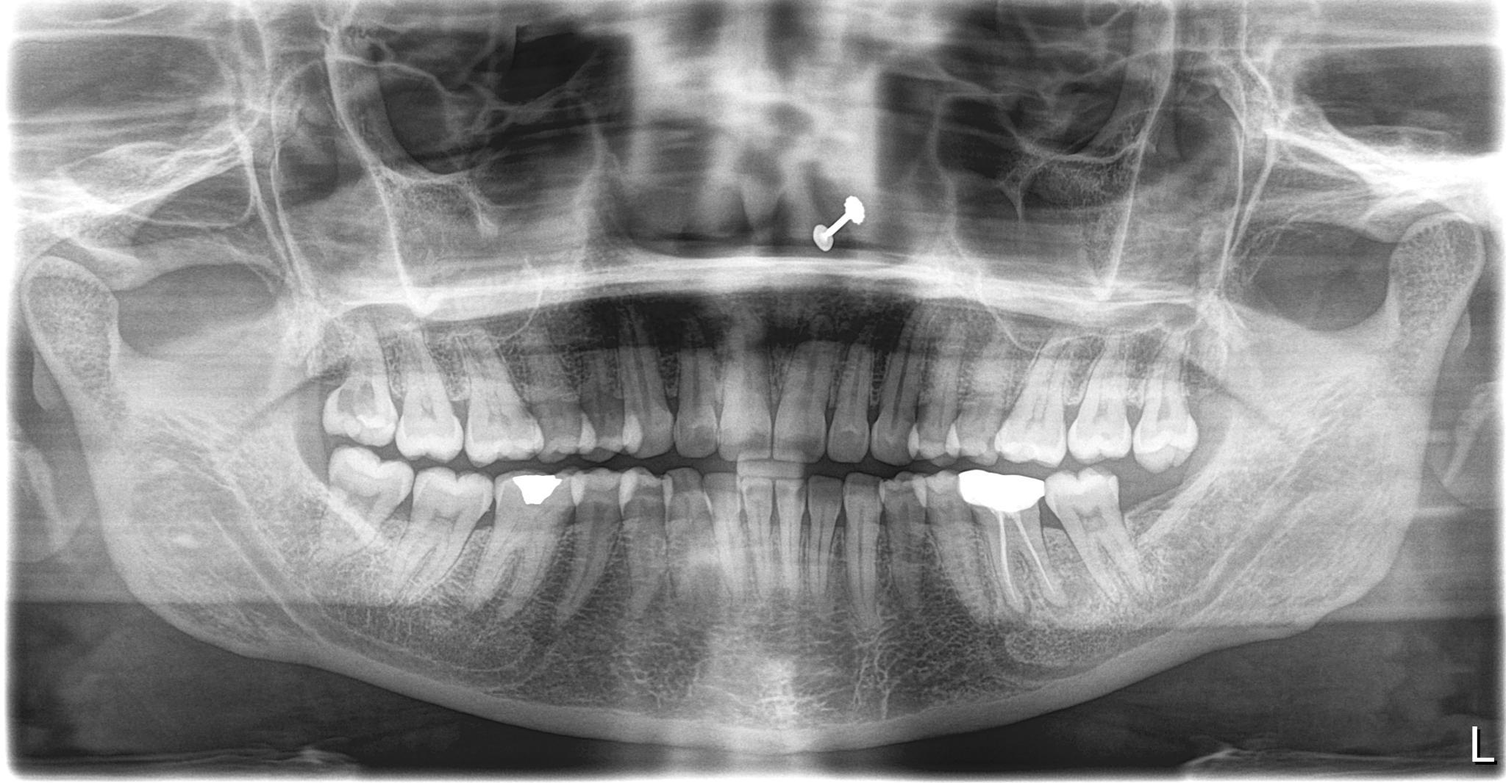Endodontically Treated Tooth: (967, 479, 1046, 638)
Periodontal Pocket: (614, 474, 673, 616), (523, 332, 586, 456), (570, 474, 618, 620), (669, 479, 718, 613), (581, 336, 635, 457), (873, 479, 927, 595), (832, 349, 891, 454), (732, 479, 773, 613), (688, 332, 729, 453), (881, 356, 926, 456), (818, 487, 858, 598), (634, 349, 677, 451), (787, 348, 826, 457), (779, 477, 813, 598), (735, 347, 774, 451), (930, 354, 964, 456)
